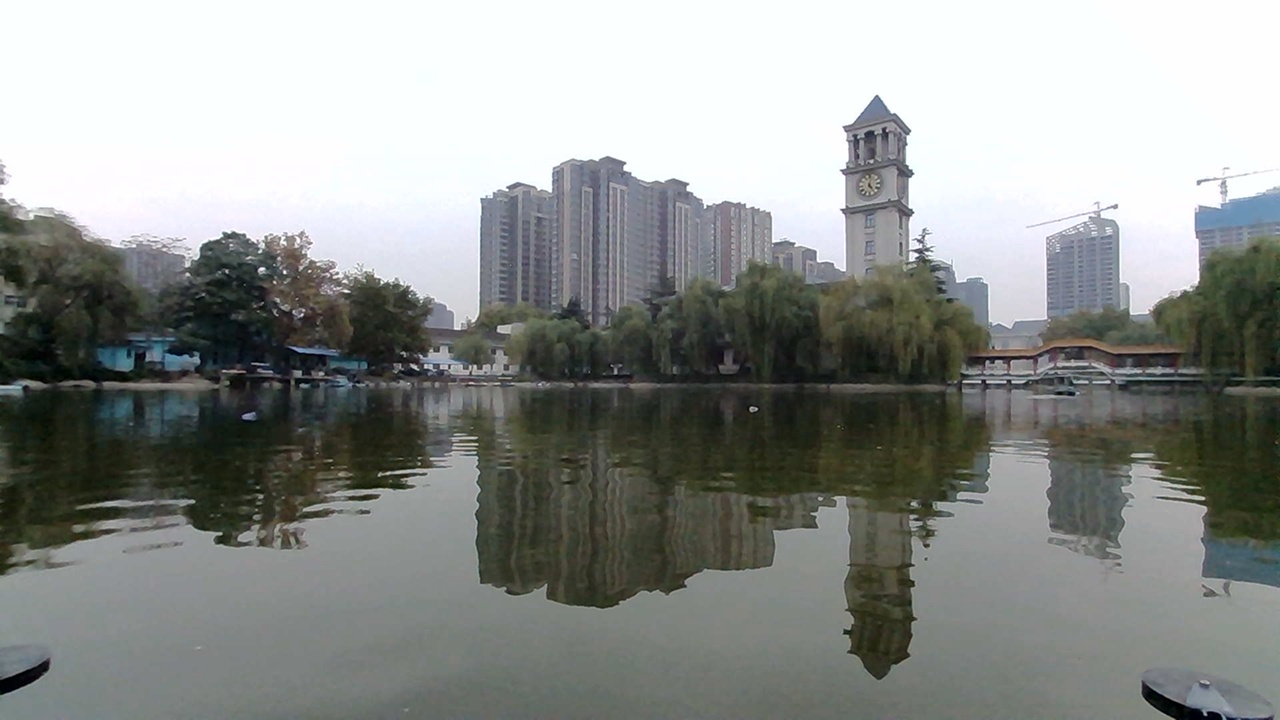bottle: (239, 394, 288, 431), (736, 392, 779, 421)
